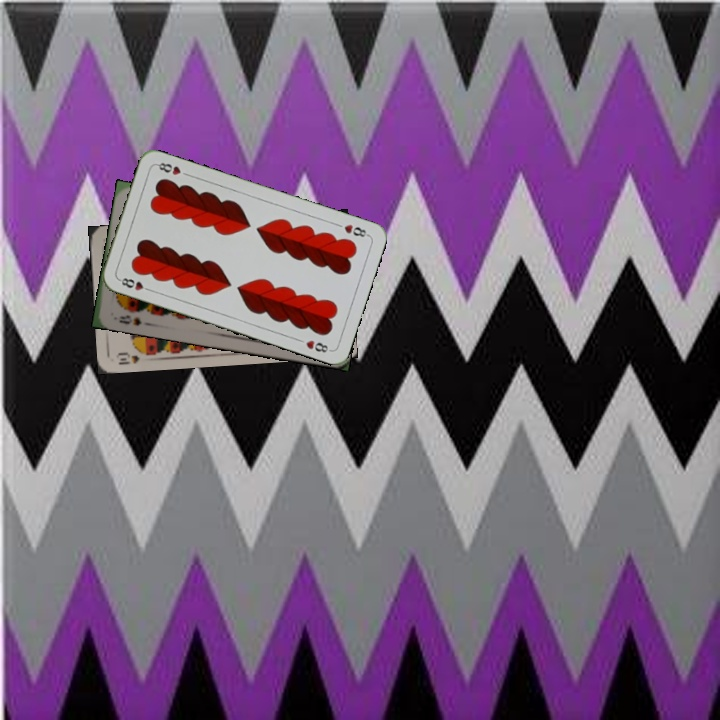H8: (115, 274, 154, 294), (340, 220, 371, 240)
S10: (112, 347, 152, 367)
S8: (115, 311, 144, 328)
